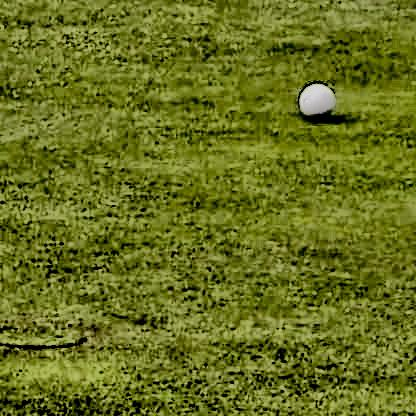golfball: (296, 79, 332, 116)
